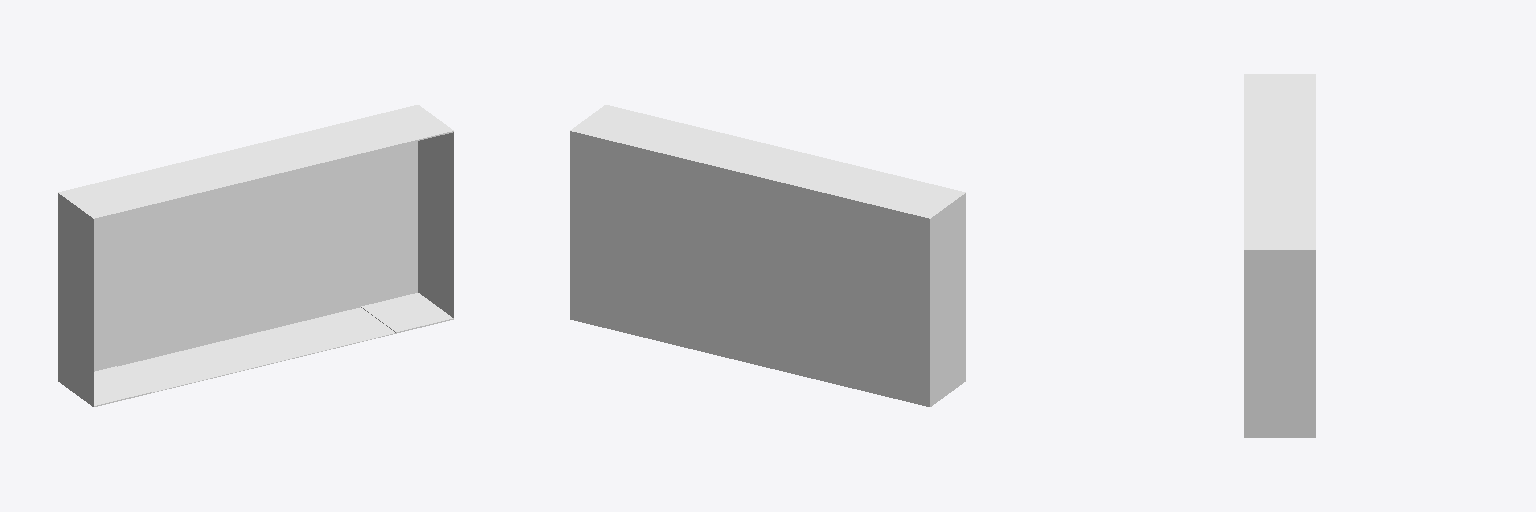
The model's file is eske_topp.obj.
The picture shows the model from 3 angles: view 1: azimuth 30°, elevation 25°; view 2: azimuth 150°, elevation 25°; view 3: azimuth 270°, elevation 25°; orthographic projection.
Visible parts, largest first — view 1: 1; view 2: 1; view 3: 1.
Boxes of the visible parts, x1=… form: 1: x1=58, y1=105, x2=453, y2=406; 1: x1=570, y1=105, x2=965, y2=406; 1: x1=1244, y1=74, x2=1315, y2=437.
Size of the model in its own units: 590 by 295 by 102.